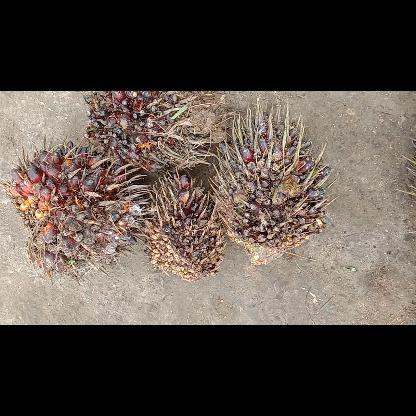TBS abnormal: (214, 100, 330, 264), (82, 90, 216, 170), (146, 172, 226, 280)
TBS masak: (2, 143, 146, 278)
